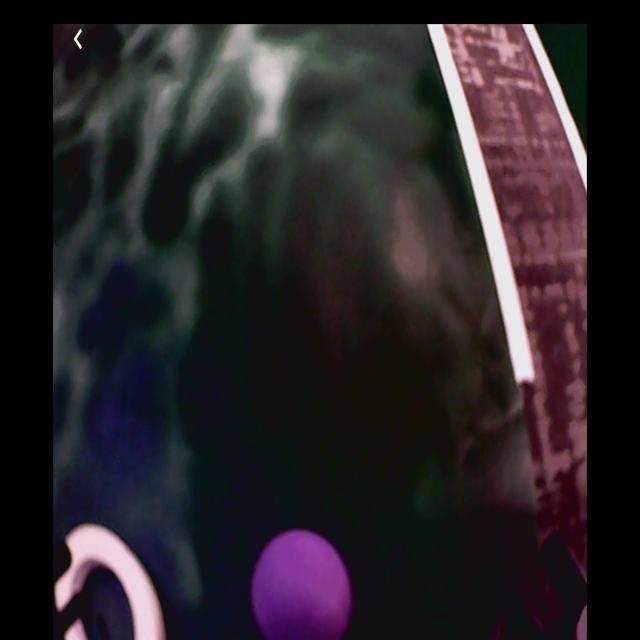ball: (252, 533, 352, 638)
